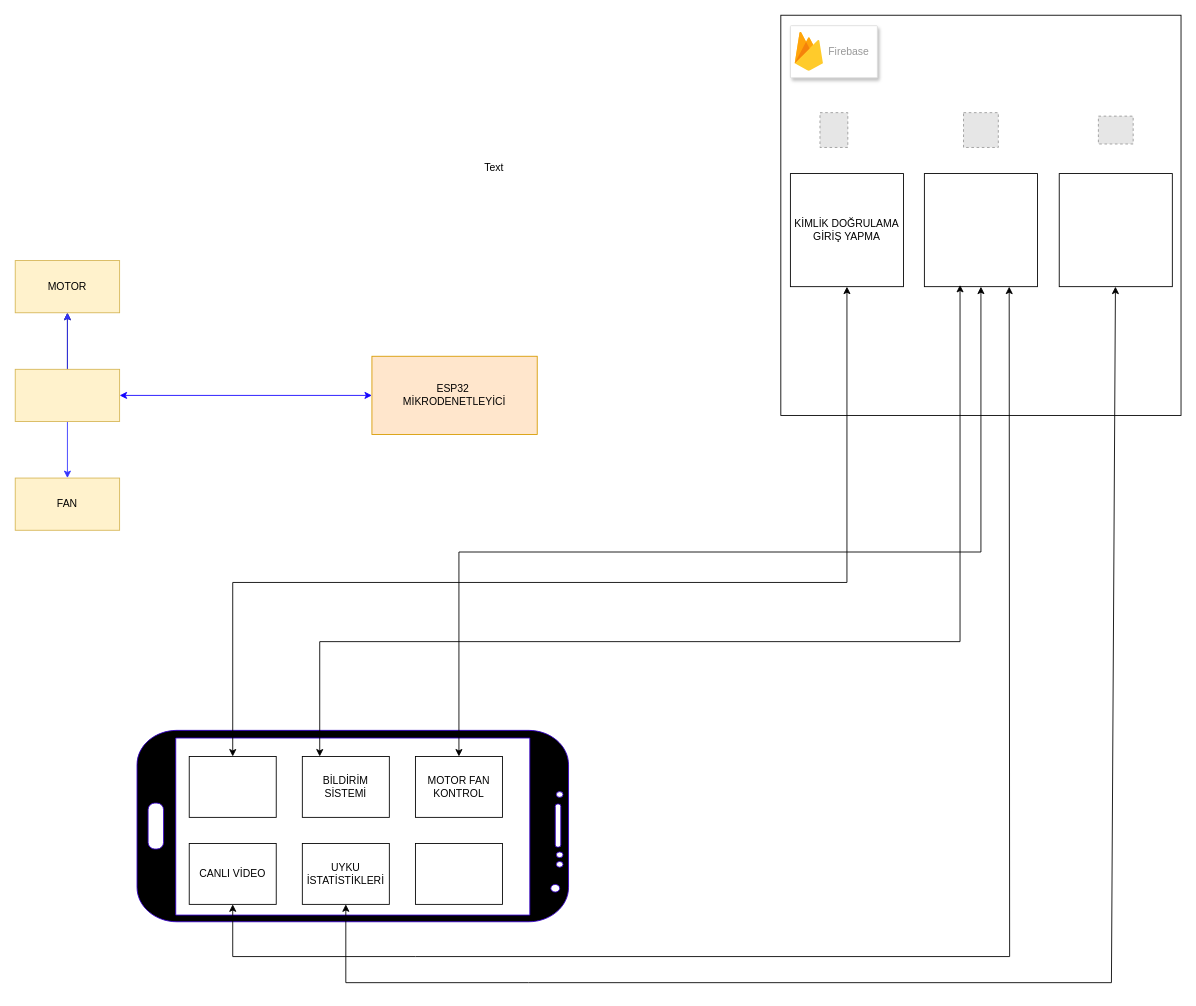
This 1196x1006 diagram has some shape labels left out. Grey dashed boxes stand in for pictures. Each missing label, with the centre of its shape:
"DEPOLAMA" goes at [1115,230].
"GERÇEK ZAMANLI VERİ TABANI" goes at [980,230].
"SÜRÜCÜ KARTI" goes at [67,395].
"UYGULAMA GİRİŞ" goes at [232,786].
